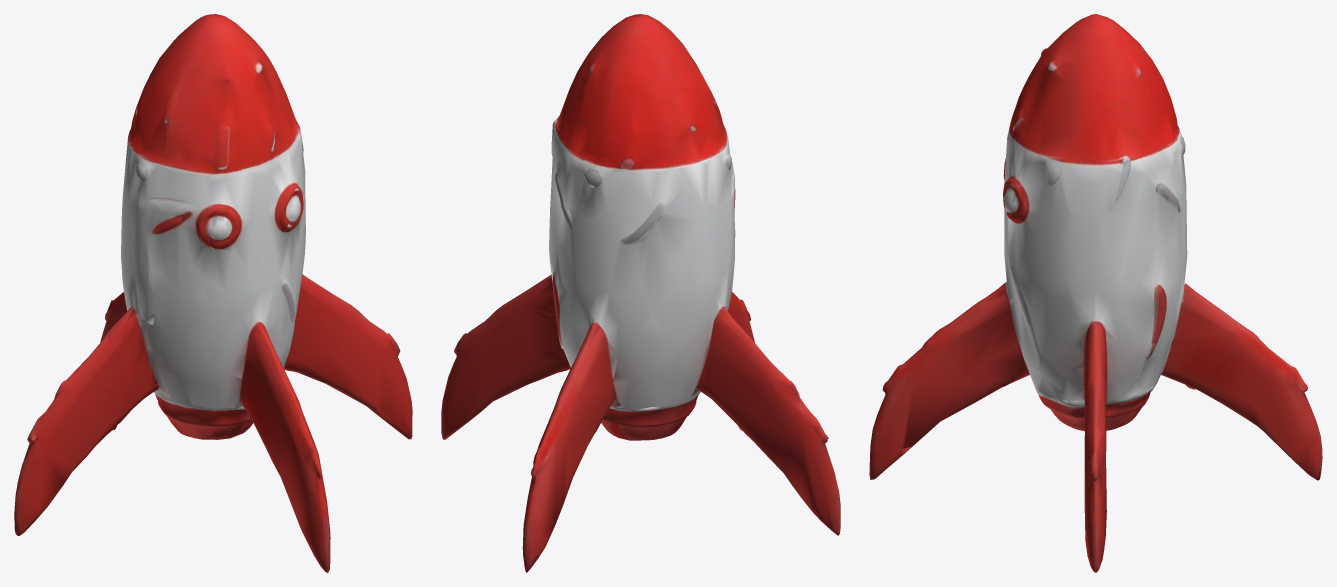
Rendered from rocket.glb.
3 renders of one model, left to right at view 1: azimuth 30°, elevation 25°; view 2: azimuth 150°, elevation 25°; view 3: azimuth 270°, elevation 25°, orthographic. The views are drawn at different scales.
Visible parts, largest first — view 1: Mesh_0; view 2: Mesh_0; view 3: Mesh_0.
Boxes of the visible parts, <box> form: Mesh_0: <box>14,14,412,572</box>; Mesh_0: <box>441,14,840,572</box>; Mesh_0: <box>869,14,1322,572</box>.
Size of the model in its own units: 1.76 by 2 by 1.77.
1 material, 1 textured.
